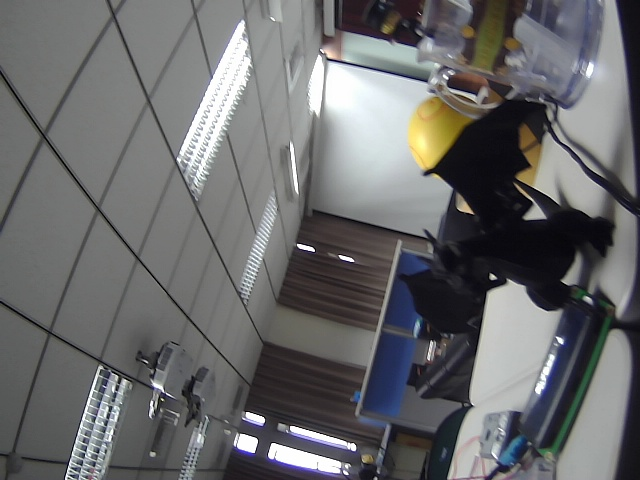charizard: (372, 84, 631, 333)
